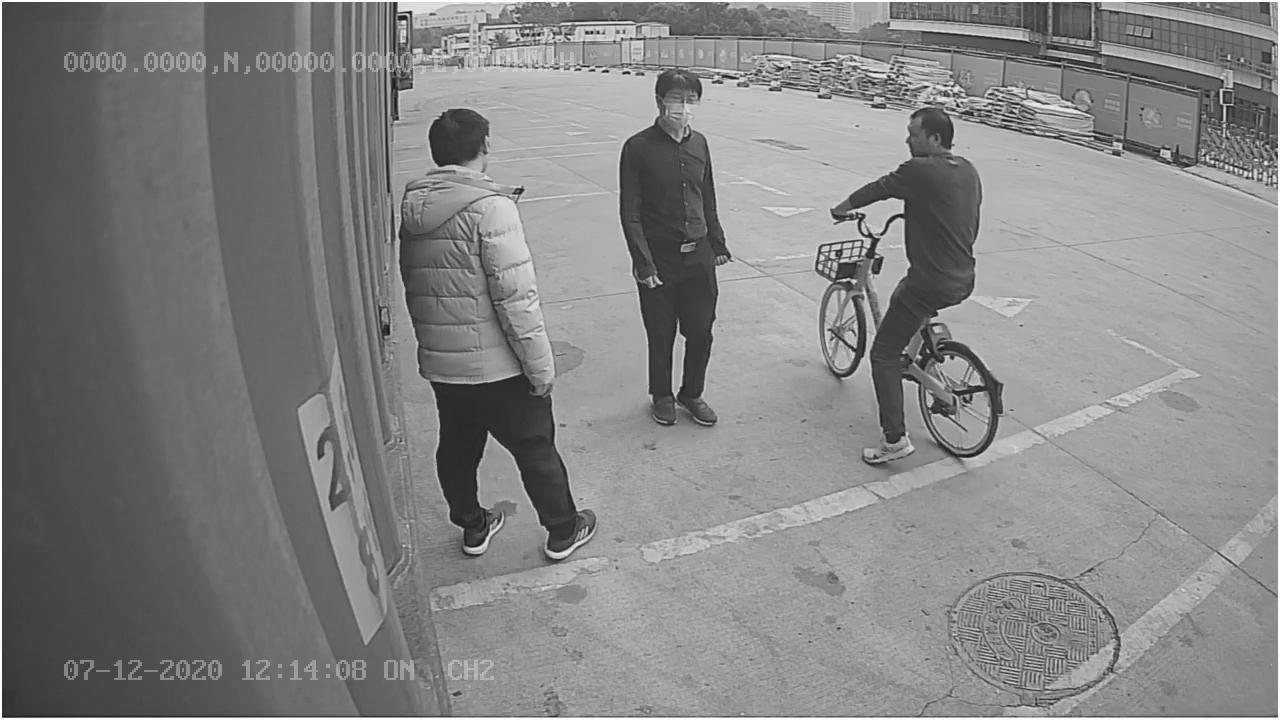person: (618, 63, 736, 431)
